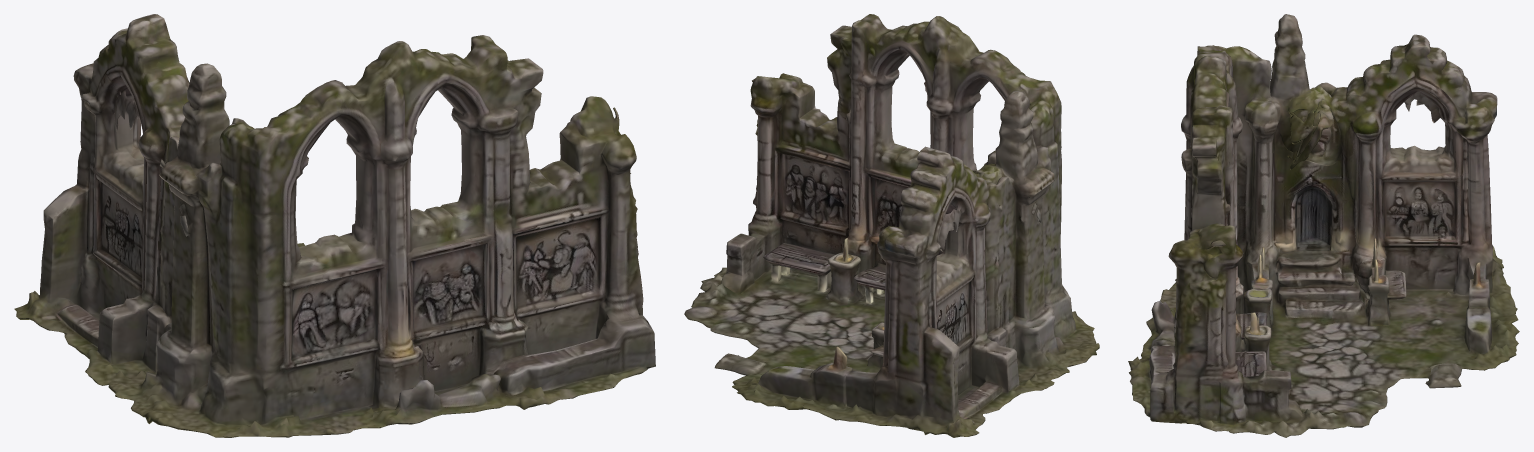
File: lm_hall_of_echoes.glb
3 views of the same model, side by side, from view 1: azimuth 30°, elevation 25°; view 2: azimuth 150°, elevation 25°; view 3: azimuth 270°, elevation 25° (orthographic). The views are drawn at different scales.
Visible parts, largest first — view 1: tripo_node_b4199bc9-be56-4163-baa7-8c8bfabc1768; view 2: tripo_node_b4199bc9-be56-4163-baa7-8c8bfabc1768; view 3: tripo_node_b4199bc9-be56-4163-baa7-8c8bfabc1768.
Part boxes in pixels (box(x1,y1,x2,y2)): tripo_node_b4199bc9-be56-4163-baa7-8c8bfabc1768: box(14, 14, 655, 437); tripo_node_b4199bc9-be56-4163-baa7-8c8bfabc1768: box(684, 14, 1099, 437); tripo_node_b4199bc9-be56-4163-baa7-8c8bfabc1768: box(1128, 14, 1519, 437).
Size of the model in its own units: 11 by 7.9 by 9.8.
1 material, 1 textured.
